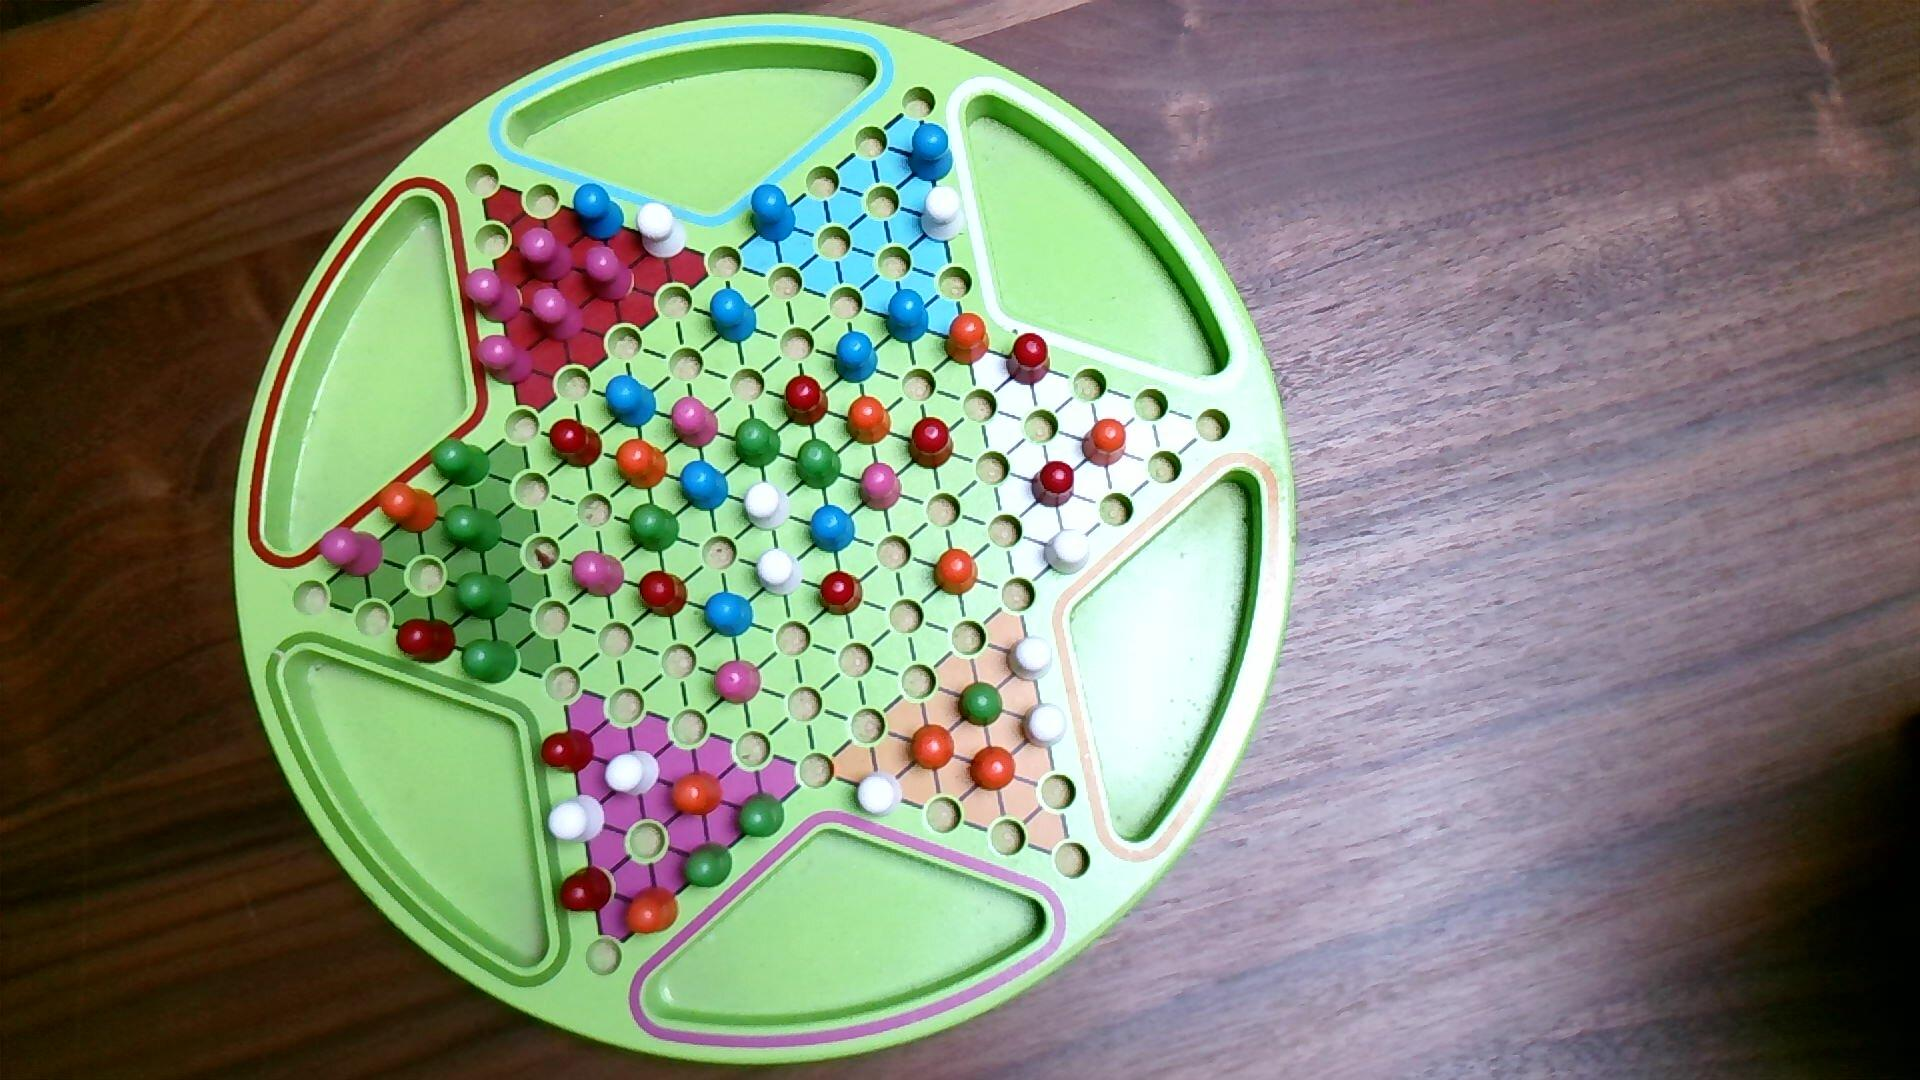B: (572, 182, 626, 243), (905, 123, 956, 185), (749, 183, 799, 245), (604, 375, 659, 430), (678, 459, 731, 514), (709, 287, 758, 345), (808, 502, 858, 556), (885, 287, 931, 345), (703, 589, 756, 640), (833, 330, 880, 386)
G: (429, 436, 492, 491), (440, 504, 504, 556), (454, 570, 514, 622), (460, 638, 522, 687), (628, 502, 682, 555), (794, 438, 844, 492), (733, 417, 783, 469), (680, 843, 735, 889), (956, 680, 1005, 731), (735, 791, 786, 839)
O: (375, 481, 440, 535), (622, 884, 682, 938), (615, 436, 670, 492), (942, 310, 992, 368), (667, 770, 727, 819), (844, 394, 894, 447), (1080, 417, 1129, 469), (969, 745, 1018, 795), (909, 724, 957, 773), (932, 547, 980, 597)
R: (396, 617, 458, 667), (556, 864, 615, 915), (547, 418, 605, 469), (539, 727, 596, 777), (907, 415, 956, 472), (637, 568, 690, 620), (1005, 334, 1054, 388), (782, 375, 829, 429), (1030, 459, 1077, 509), (818, 570, 865, 618)
R2: (316, 524, 386, 580), (463, 266, 524, 326), (517, 225, 576, 286), (529, 287, 587, 343), (475, 334, 535, 386), (582, 245, 636, 303), (670, 396, 720, 451), (571, 550, 626, 600), (857, 462, 905, 514), (711, 659, 764, 707)
W: (546, 793, 607, 847), (636, 200, 688, 262), (603, 749, 662, 799), (919, 185, 967, 245), (753, 547, 804, 599), (852, 770, 905, 820), (742, 481, 793, 533), (1019, 702, 1069, 752), (1004, 636, 1055, 684), (1043, 527, 1091, 578)
